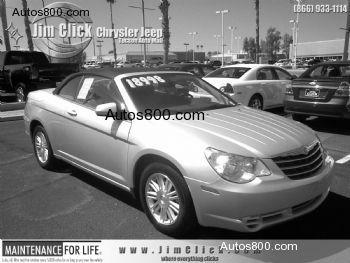car: (24, 63, 336, 235)
